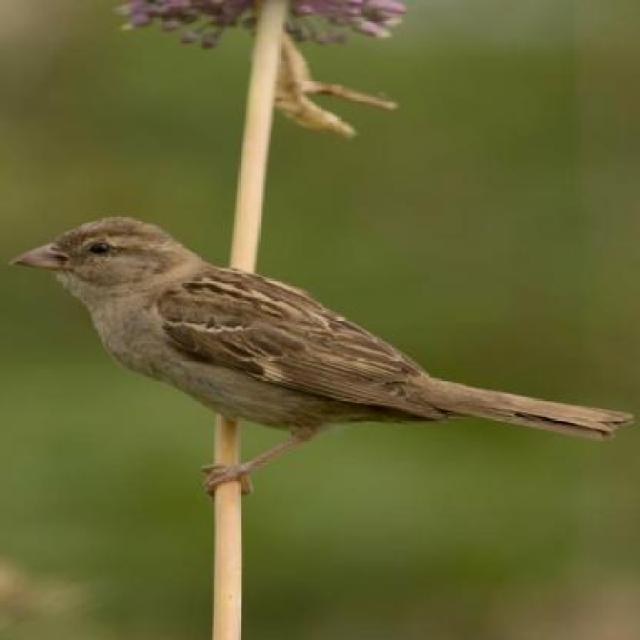sparrow: (10, 216, 628, 489)
